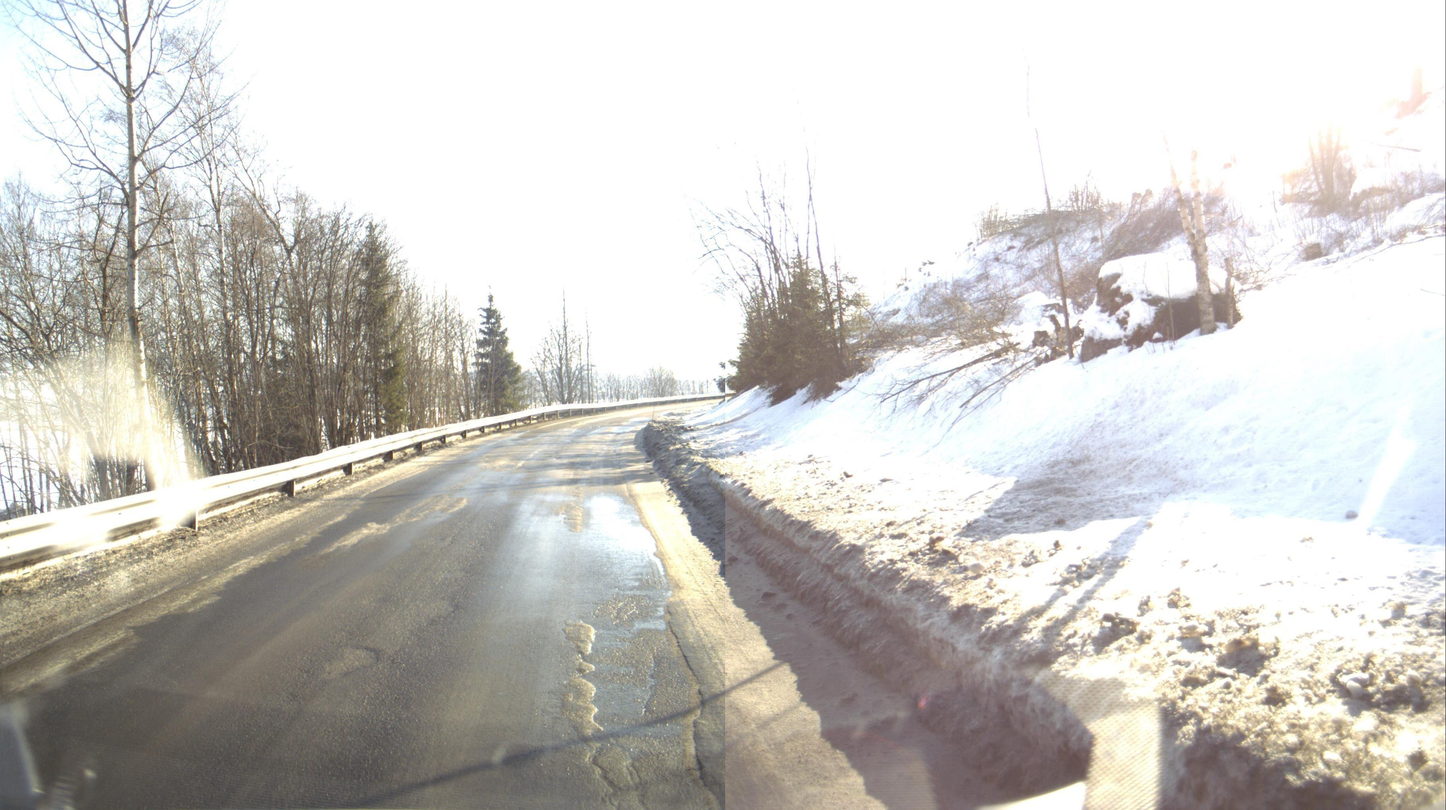pothole: (590, 616, 725, 810), (320, 644, 386, 682)
